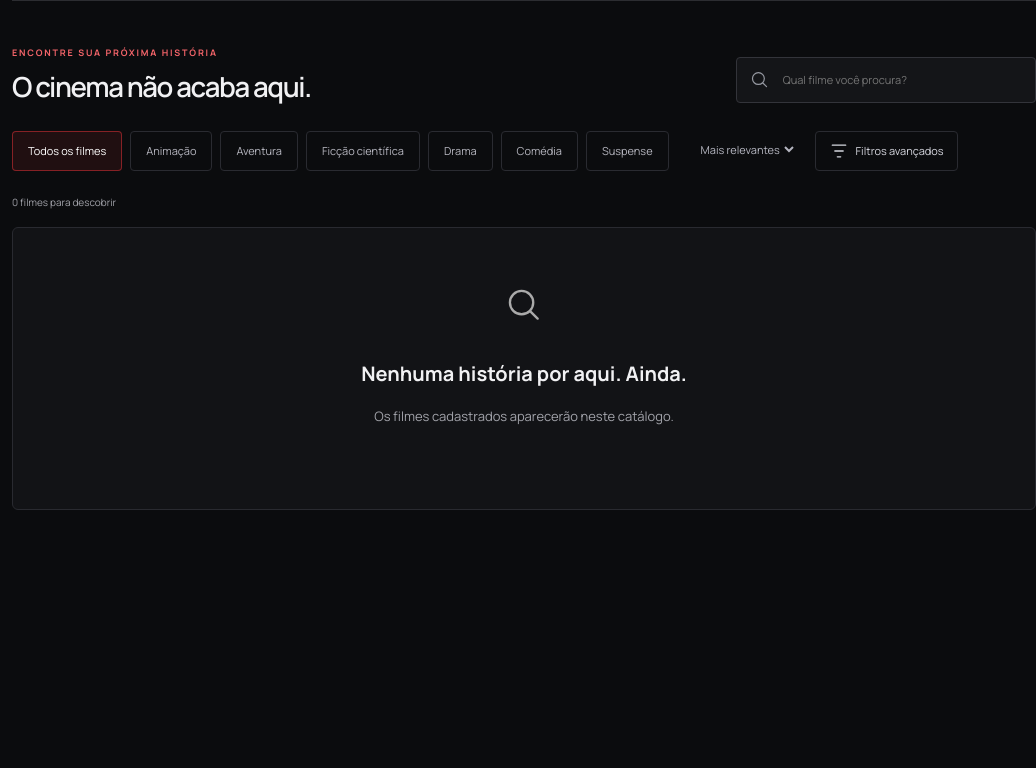
Catálogo conectado › mostra estado vazio e limpa filtros
The width and height of the screenshot is (1036, 768).
Expected: the heading "Nenhuma história por aqui. Ainda." is shown, [361,360,687,387]
Step 1. Type "inexistente" into the search field → (901, 80), box [781,58,1021,102]
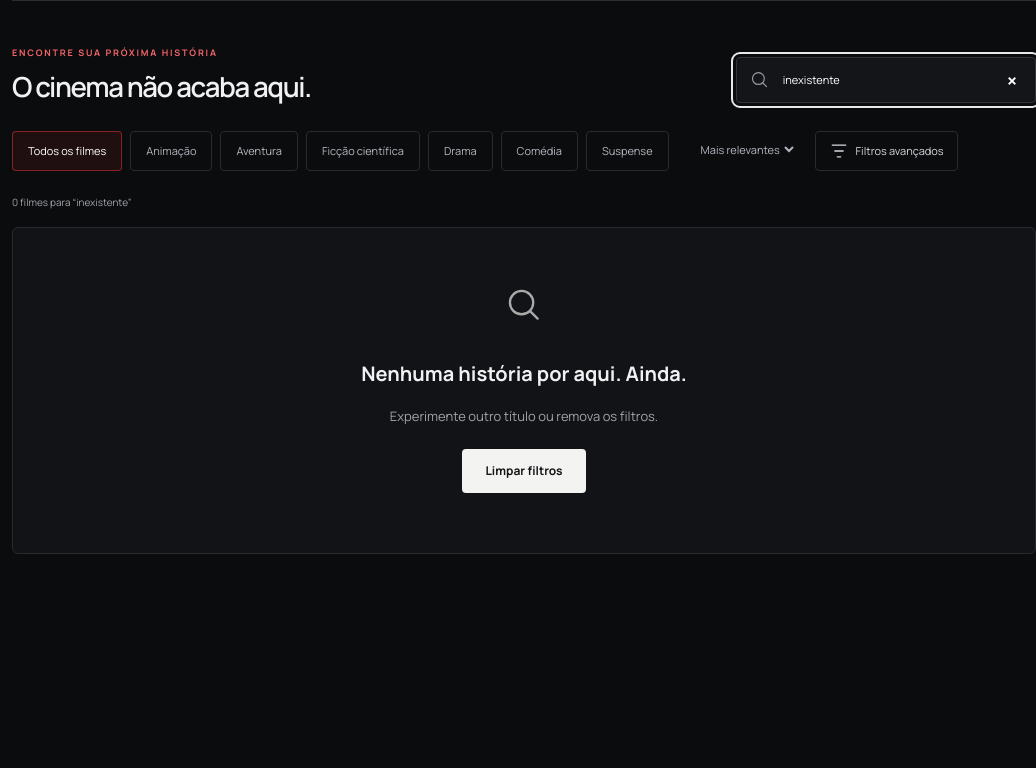
Step 2. Click the button "Limpar filtros" → (524, 471), box [462,449,586,493]
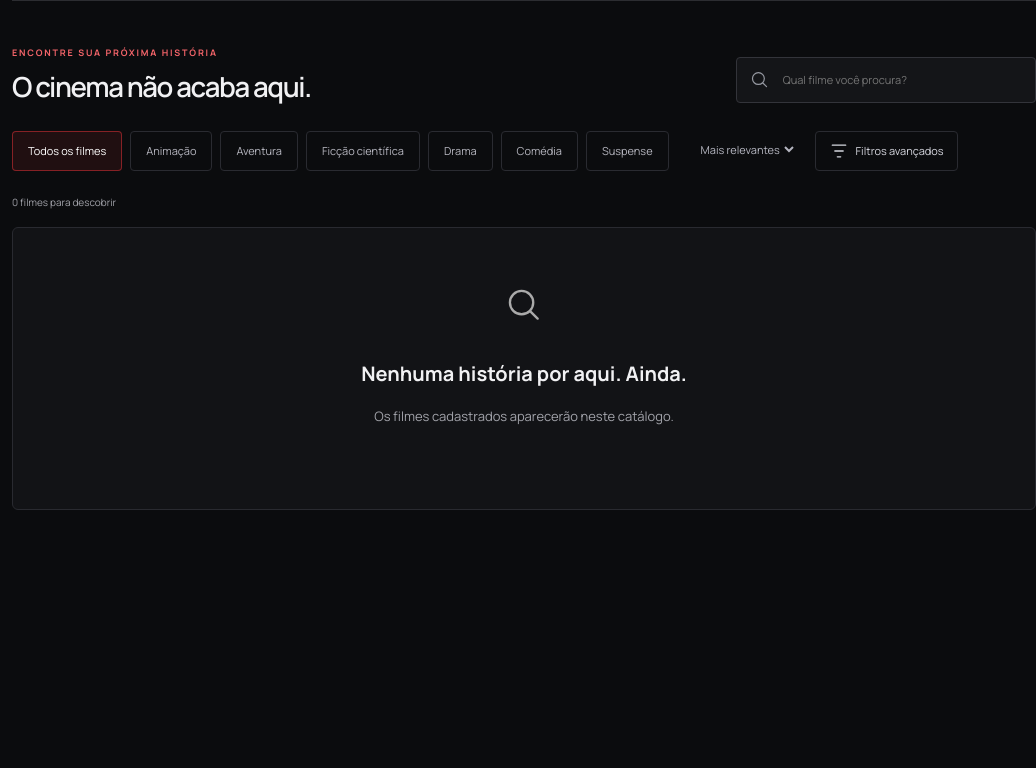
Expected: the search field is empty, [781,58,1021,102]
